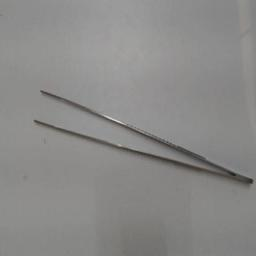DeBakey Dissector: (26, 80, 250, 194)
